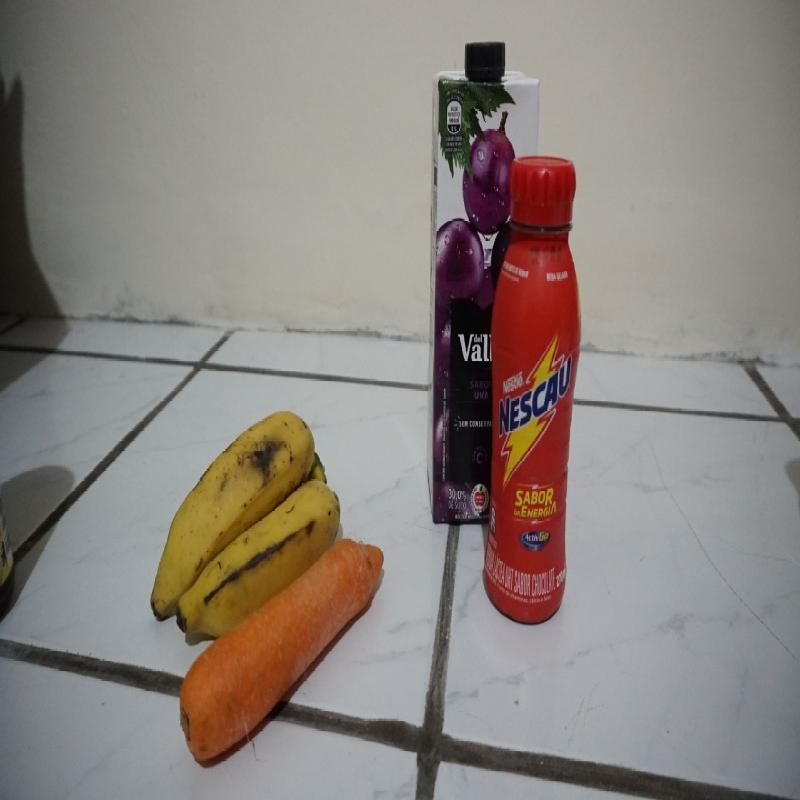Banana: (150, 409, 343, 578)
Carrot: (175, 588, 342, 761)
Chocolate Milk: (485, 152, 579, 626)
